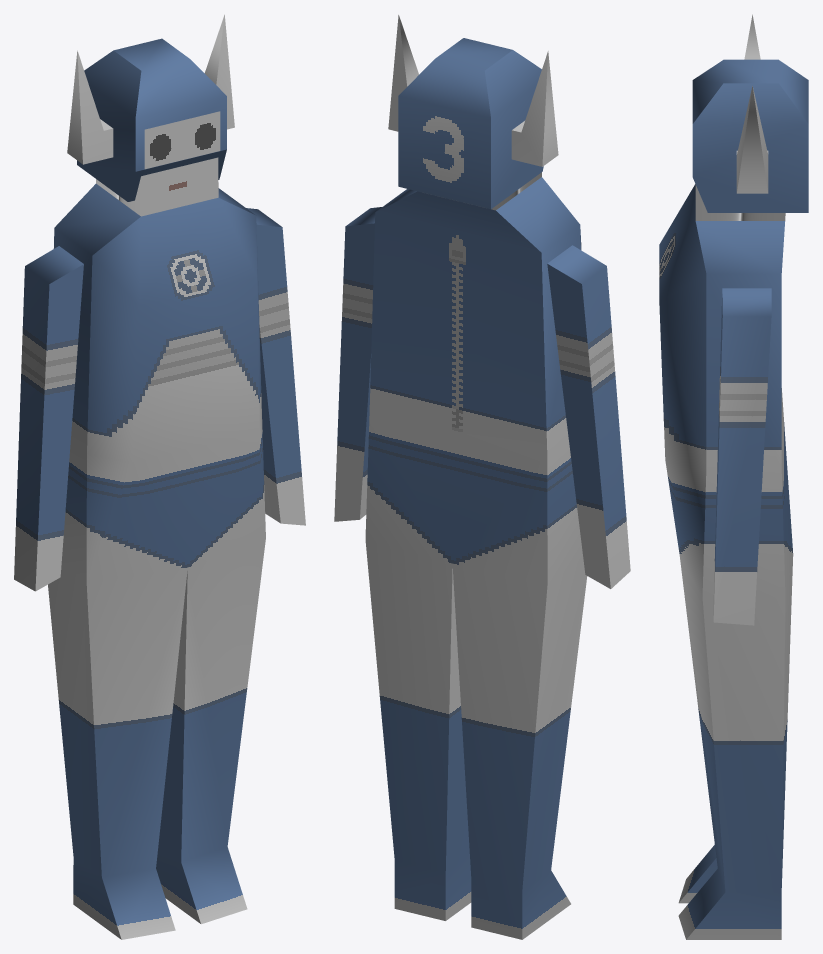
File: 058c_Marine_Jumboman.glb
The picture shows the model from 3 angles, left to right: view 1: azimuth 30°, elevation 25°; view 2: azimuth 150°, elevation 25°; view 3: azimuth 270°, elevation 25°; orthographic projection. The views are drawn at different scales.
Visible parts, largest first — view 1: part_0; view 2: part_0; view 3: part_0.
Boxes of the visible parts, box(x1,y1,x2,y2) form: part_0: box(14, 14, 305, 939); part_0: box(334, 15, 630, 939); part_0: box(659, 14, 808, 939).
Size of the model in its own units: 32.81 by 99.9 by 15.72.
1 material, 1 textured.
